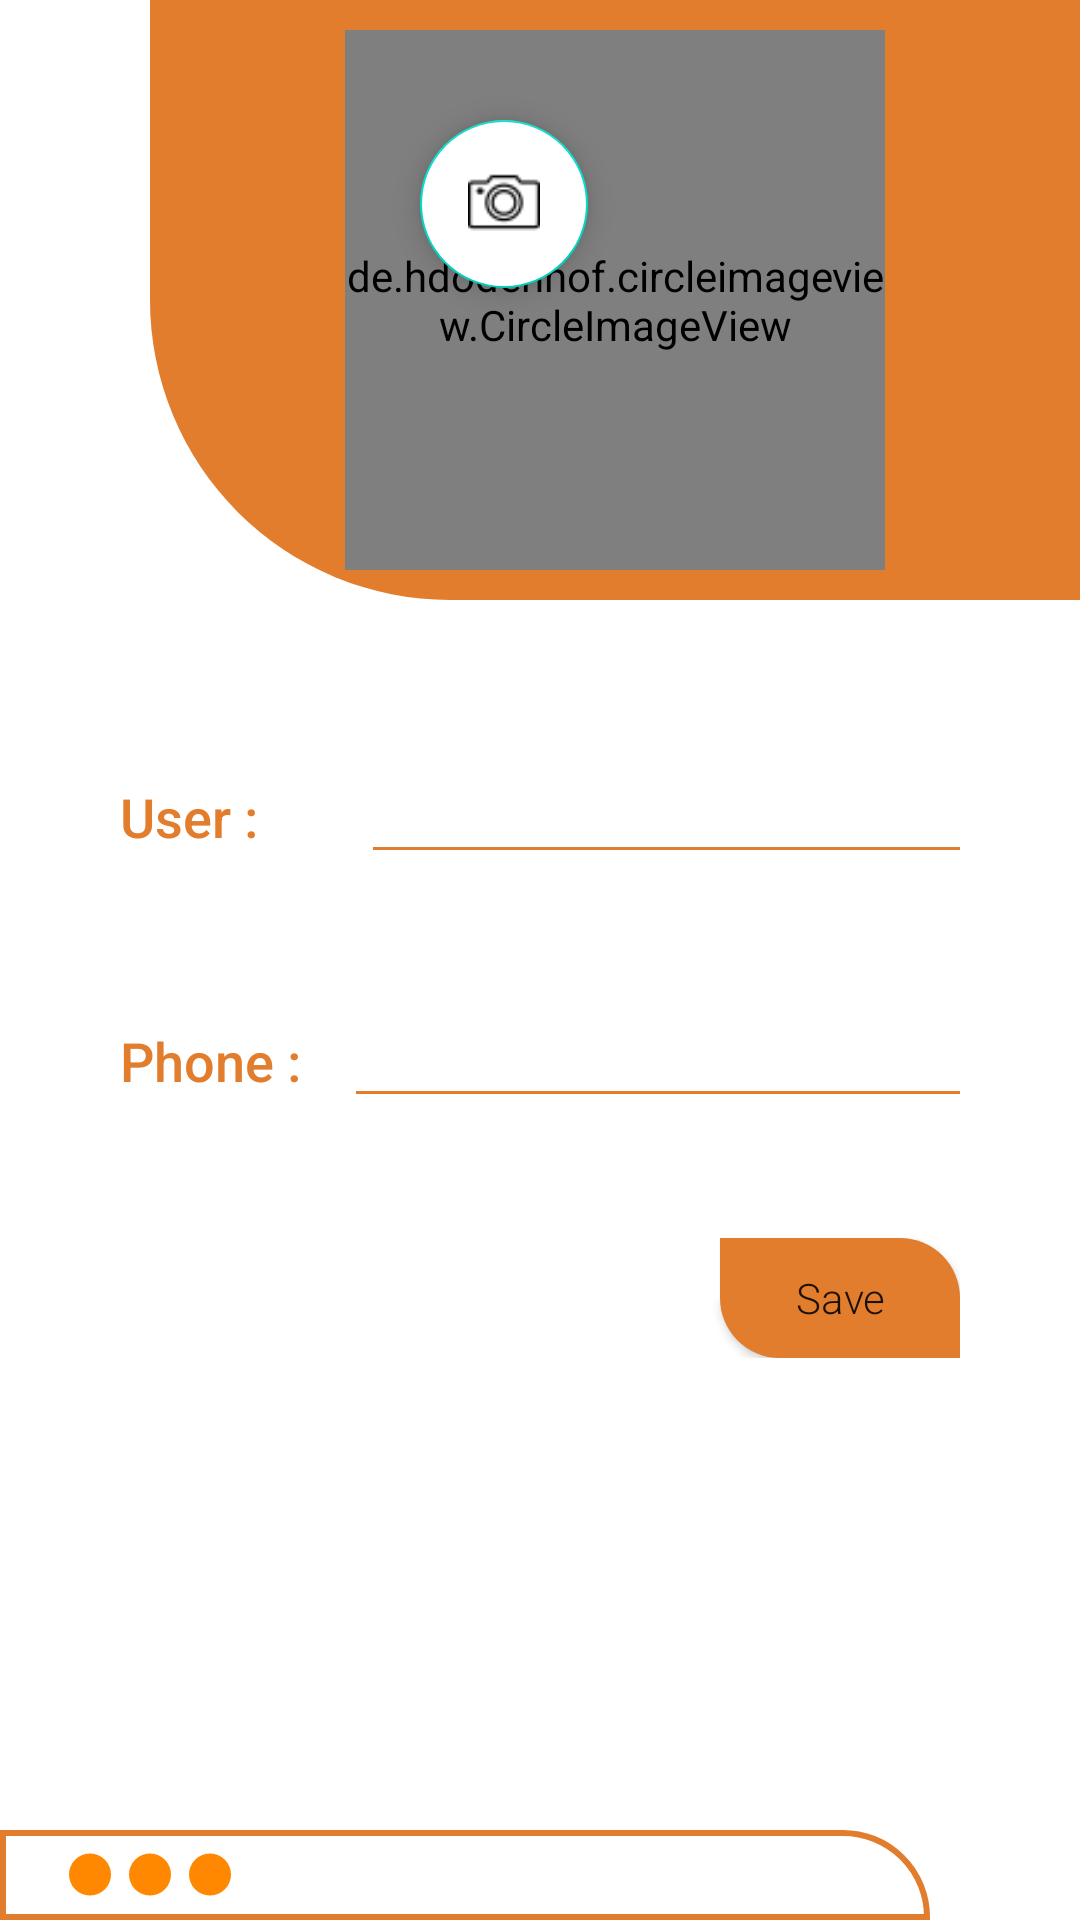

Icons on this 1080px×1920px Android screen, each with the point to tap as (x=x, y=y):
cameraa: (x=504, y=204)
